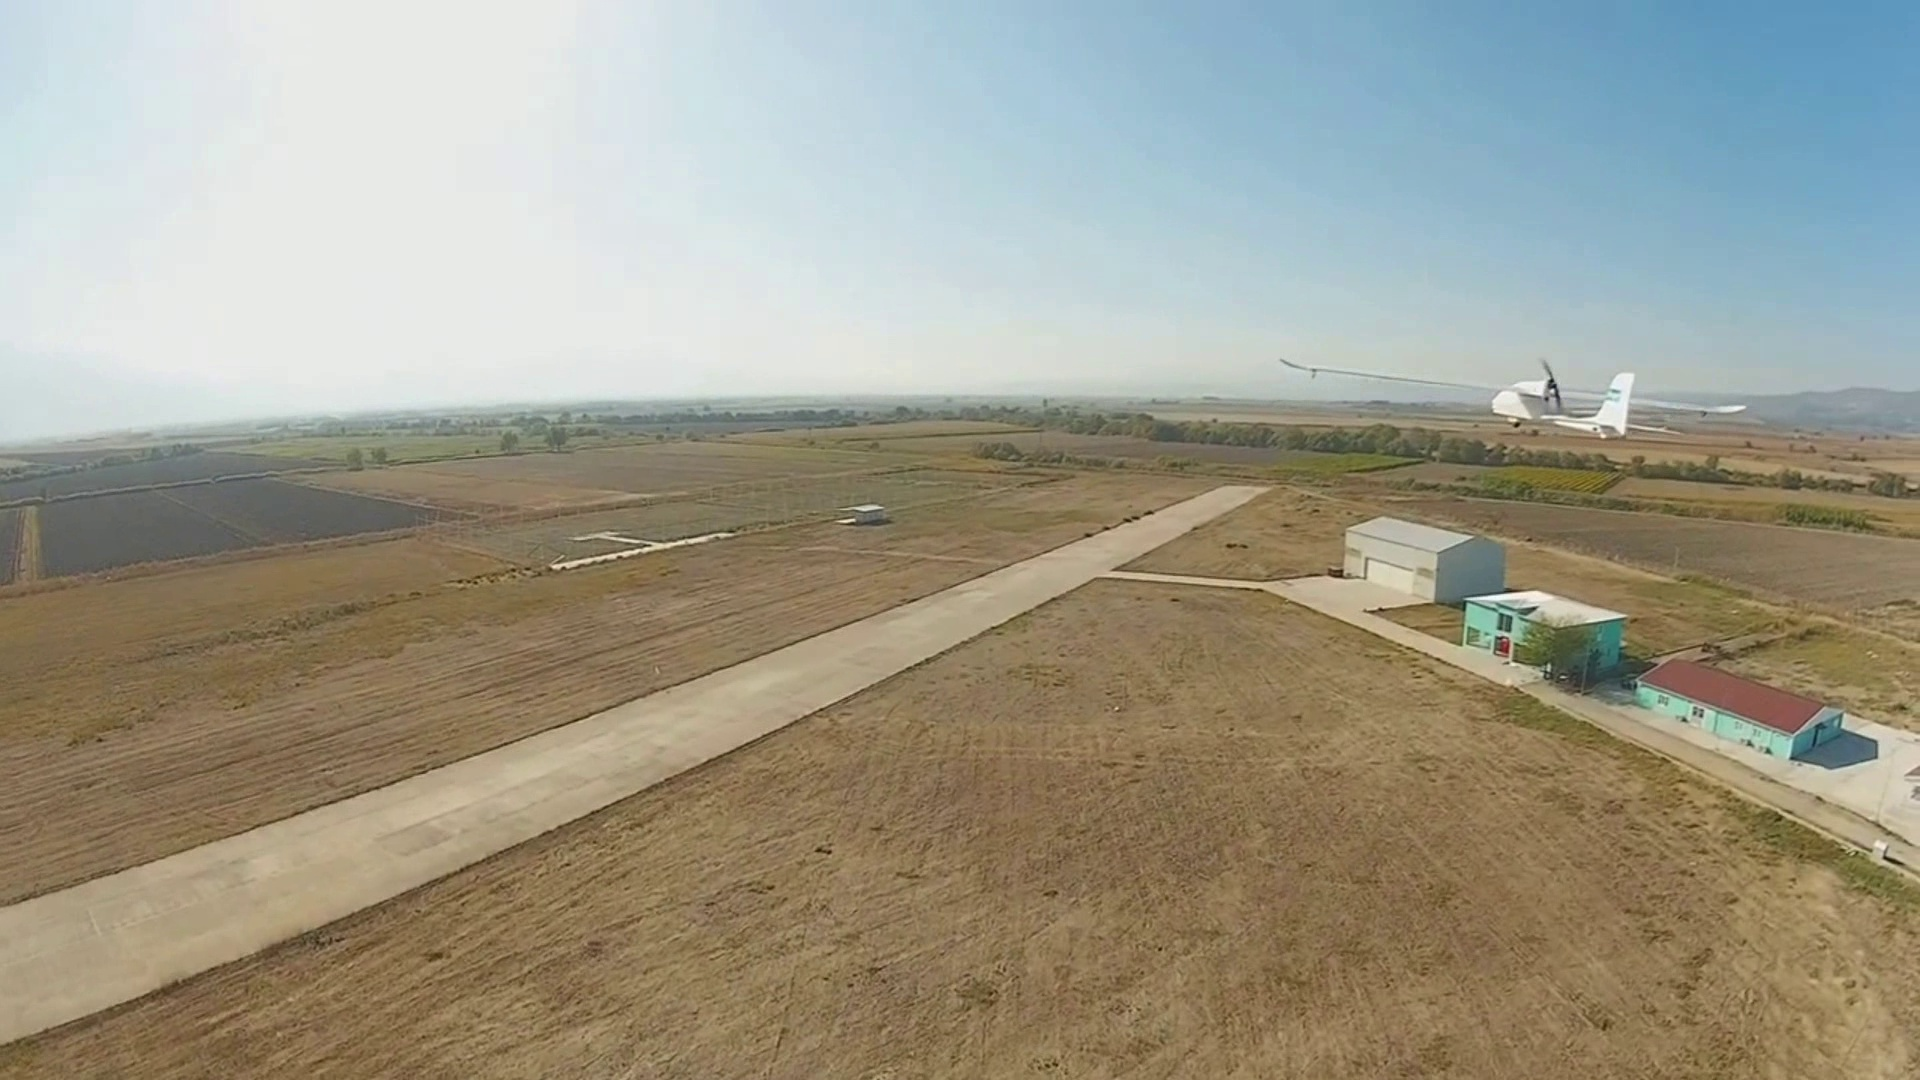airplane: (1278, 351, 1742, 440), (1484, 357, 1756, 440)
